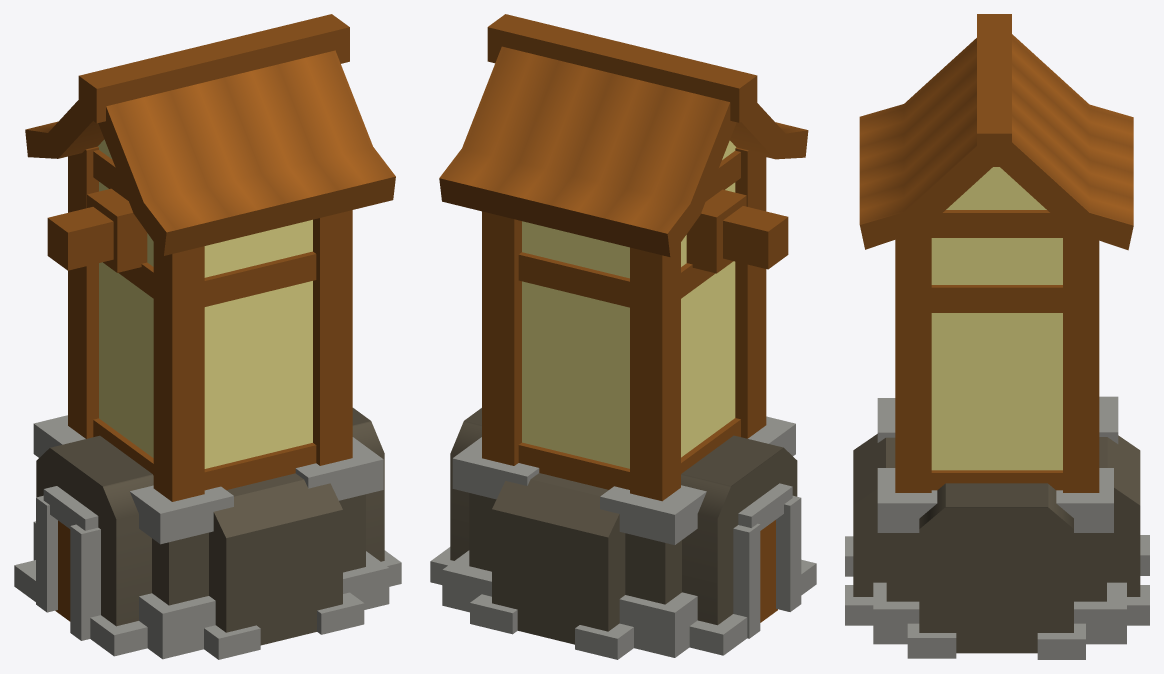
File: windmill_.fbx
3 renders of one model, left to right at view 1: azimuth 30°, elevation 25°; view 2: azimuth 150°, elevation 25°; view 3: azimuth 270°, elevation 25°, orthographic. The views are drawn at different scales.
Visible parts, largest first — view 1: polySurface36; view 2: polySurface36; view 3: polySurface36.
Part boxes in pixels (x1,y1,x2,y2): polySurface36: [14, 14, 401, 659]; polySurface36: [430, 14, 816, 659]; polySurface36: [845, 14, 1149, 659].
Size of the model in its own units: 92.26 by 157 by 83.21.
1 material, 1 textured.
